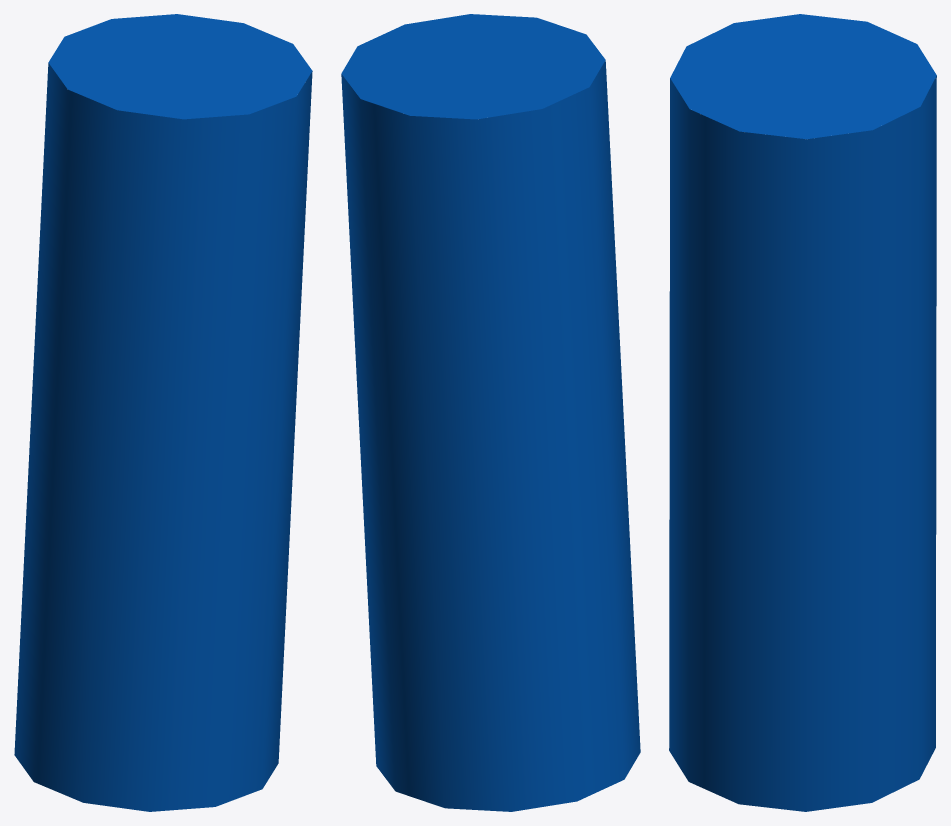
The picture shows the model from 3 angles, left to right: view 1: azimuth 30°, elevation 25°; view 2: azimuth 150°, elevation 25°; view 3: azimuth 270°, elevation 25°; orthographic projection.
Parts seen in each view (by area): view 1: 1344, 1344_4821; view 2: 1344, 1344_4821; view 3: 1344, 1344_4821.
Boxes of the visible parts, box(x1,y1,x2,y2) form: 1344: box(14, 63, 312, 811); 1344_4821: box(48, 14, 312, 119); 1344: box(341, 60, 640, 811); 1344_4821: box(341, 14, 605, 119); 1344: box(669, 75, 936, 811); 1344_4821: box(670, 14, 936, 139).
Size of the model in its own units: 0.3238 by 0.8191 by 0.2829.
